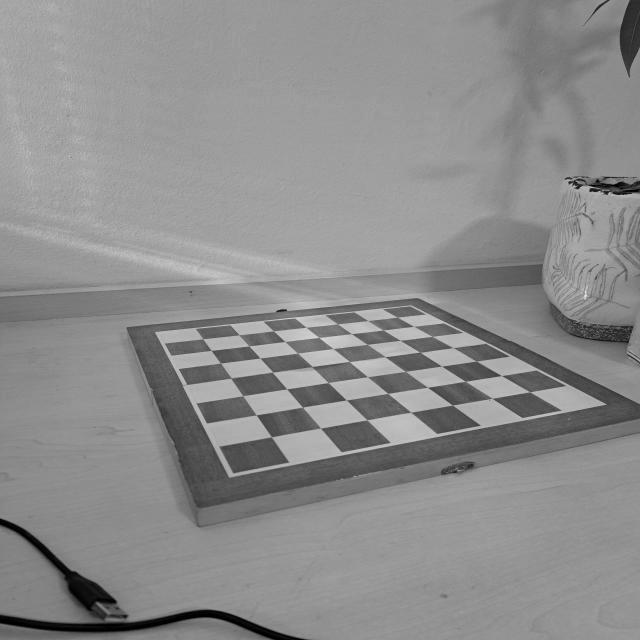chess-table-corners: (218, 463, 250, 483), (586, 394, 610, 412), (146, 327, 172, 341), (401, 300, 418, 314)
